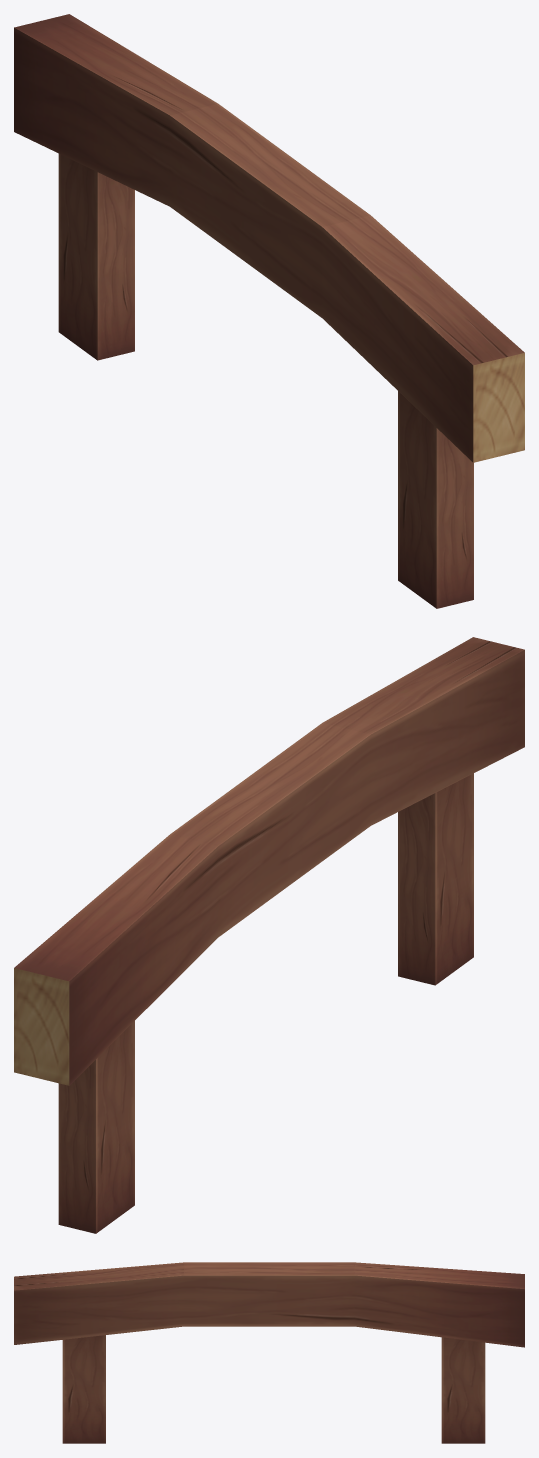
File: wooden_fence.fbx
3 views of the same model, one above another, from view 1: azimuth 30°, elevation 25°; view 2: azimuth 150°, elevation 25°; view 3: azimuth 270°, elevation 25° (orthographic). The views are drawn at different scales.
Visible parts, largest first — view 1: wooden_fence:Mesh; view 2: wooden_fence:Mesh; view 3: wooden_fence:Mesh.
Part boxes in pixels (x1,y1,x2,y2): wooden_fence:Mesh: [14, 14, 524, 608]; wooden_fence:Mesh: [14, 637, 524, 1233]; wooden_fence:Mesh: [14, 1262, 524, 1443].
Bounding box in the file's own units: 0.1471 × 0.7699 × 2.1.
1 material, 1 textured.
